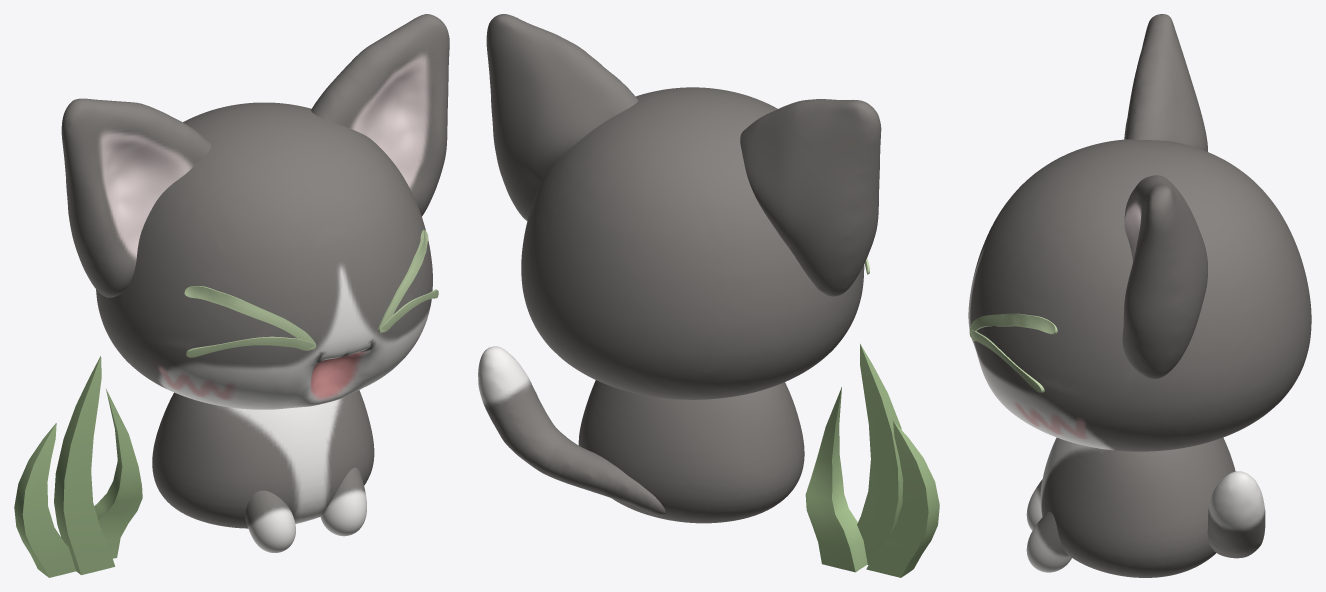
Rendered from cute_cat_assignment.glb.
3 views of the same model, side by side, from view 1: azimuth 30°, elevation 25°; view 2: azimuth 150°, elevation 25°; view 3: azimuth 270°, elevation 25° (orthographic).
Parts seen in each view (by area): view 1: Object_13, Object_9, Object_19, Object_7, Object_5, Object_15, Object_11, Object_3; view 2: Object_13, Object_9, Object_19, Object_17, Object_7, Object_3, Object_5; view 3: Object_13, Object_19, Object_9, Object_17, Object_15, Object_11.
Part boxes in pixels (x1=…): Object_13: x1=96, y1=102, x2=432, y2=409; Object_9: x1=61, y1=14, x2=449, y2=297; Object_19: x1=152, y1=390, x2=374, y2=528; Object_7: x1=54, y1=356, x2=115, y2=574; Object_5: x1=14, y1=423, x2=75, y2=577; Object_15: x1=245, y1=467, x2=366, y2=552; Object_11: x1=184, y1=229, x2=438, y2=357; Object_3: x1=94, y1=389, x2=142, y2=558; Object_13: x1=521, y1=87, x2=864, y2=399; Object_9: x1=486, y1=14, x2=881, y2=296; Object_19: x1=578, y1=380, x2=804, y2=523; Object_17: x1=478, y1=346, x2=665, y2=515; Object_7: x1=857, y1=344, x2=903, y2=564; Object_3: x1=805, y1=387, x2=867, y2=572; Object_5: x1=866, y1=421, x2=939, y2=577; Object_13: x1=968, y1=139, x2=1311, y2=451; Object_19: x1=1040, y1=437, x2=1235, y2=577; Object_9: x1=1122, y1=14, x2=1207, y2=379; Object_17: x1=1207, y1=471, x2=1265, y2=558; Object_15: x1=1026, y1=479, x2=1071, y2=572; Object_11: x1=969, y1=313, x2=1057, y2=392.
Size of the model in its own units: 2.55 by 2.57 by 1.71.
